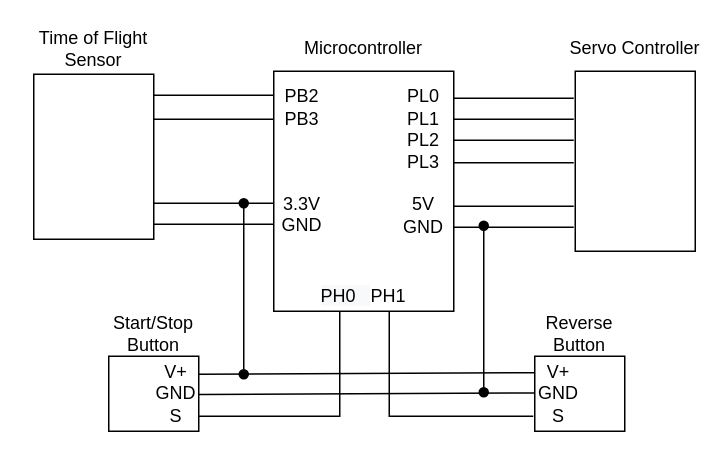
Some shapes in this 728 by 458 pixel diagram are drawn without their labels. The centre of each missing label's shape, as x and y in pixels:
"IN1 IN1 IN2 IN3 V+ V-" goes at (x=634, y=160).
"SDA SCL VIN GND" goes at (x=93, y=156).
